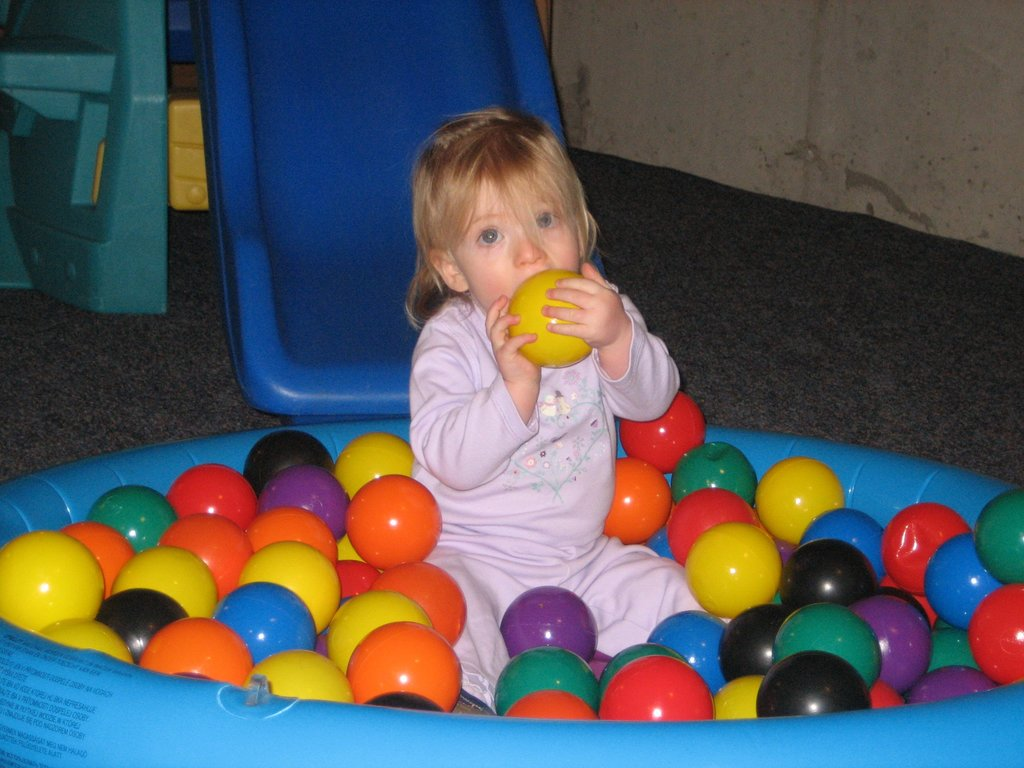Person: (399, 102, 731, 714)
